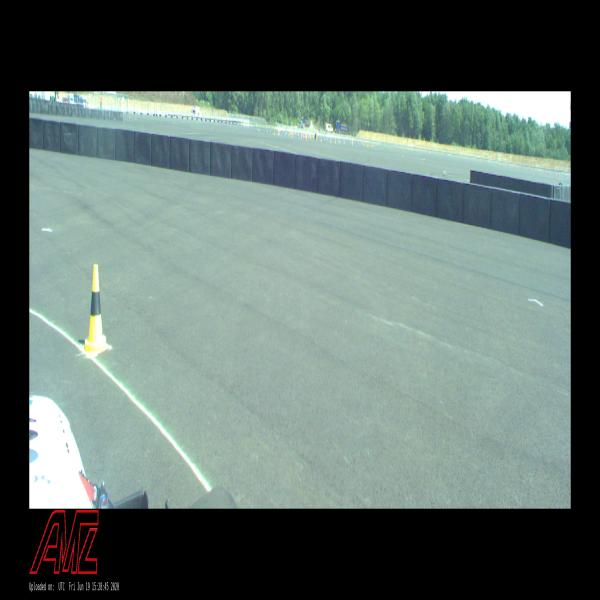yellow_cone: (85, 264, 107, 352)
